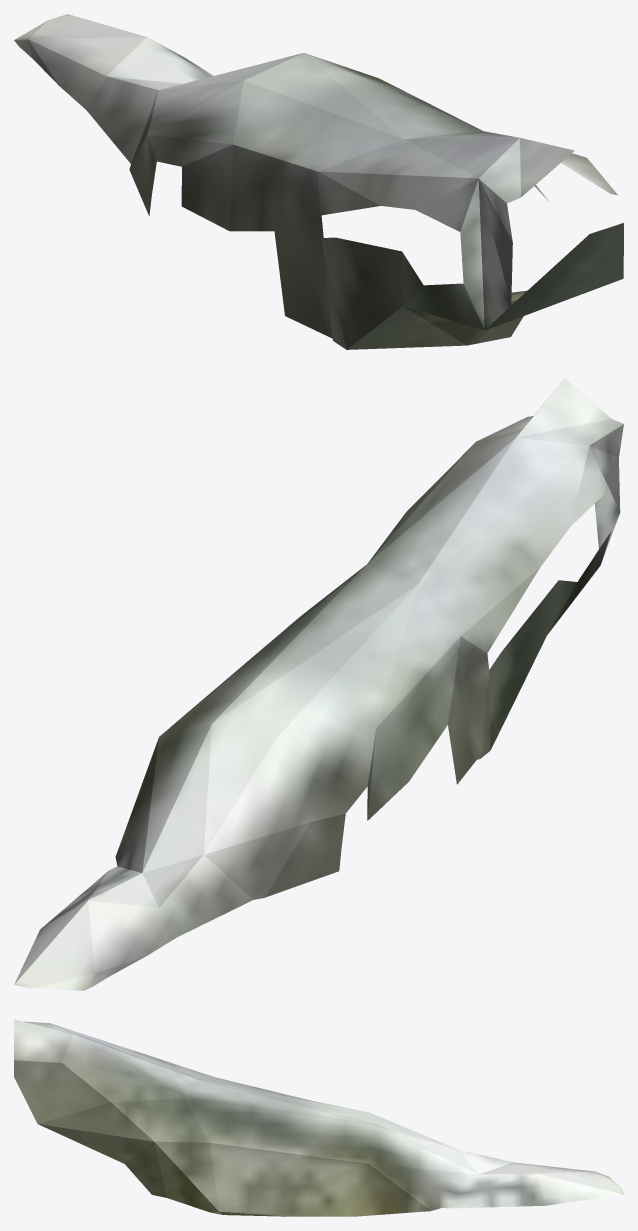
The picture shows the model from 3 angles, top to bottom: view 1: azimuth 30°, elevation 25°; view 2: azimuth 150°, elevation 25°; view 3: azimuth 270°, elevation 25°; orthographic projection. The views are drawn at different scales.
Bounding box in the file's own units: 0.142 × 0.174 × 0.6064.
1 material, 1 textured.
